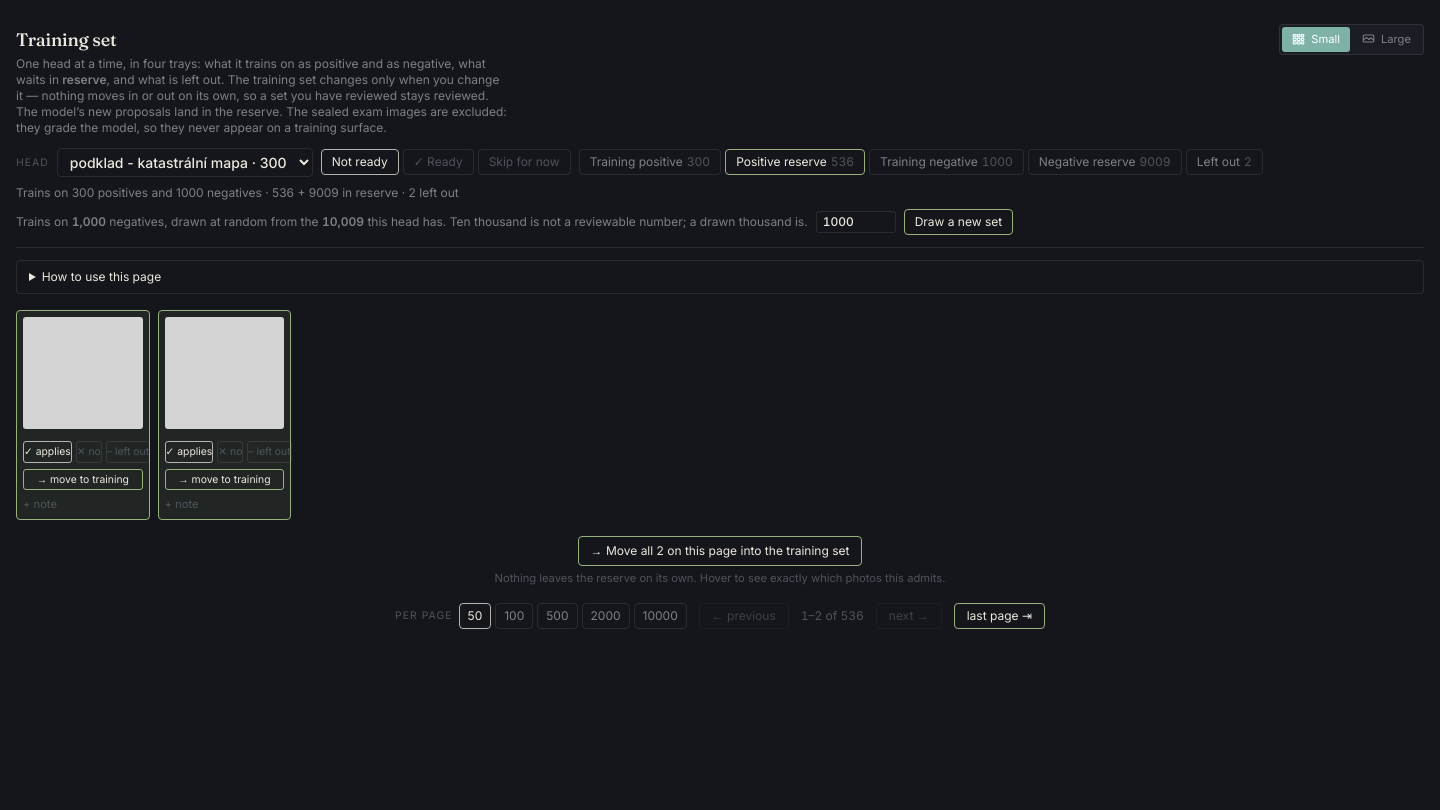
Test: <NewDedupTrainingSet> moving between reserve and the training set › admits one reserve photo, and the two counts move at once
Click the button with test id "move-301": (83, 479) left=23, top=468, right=143, bottom=490
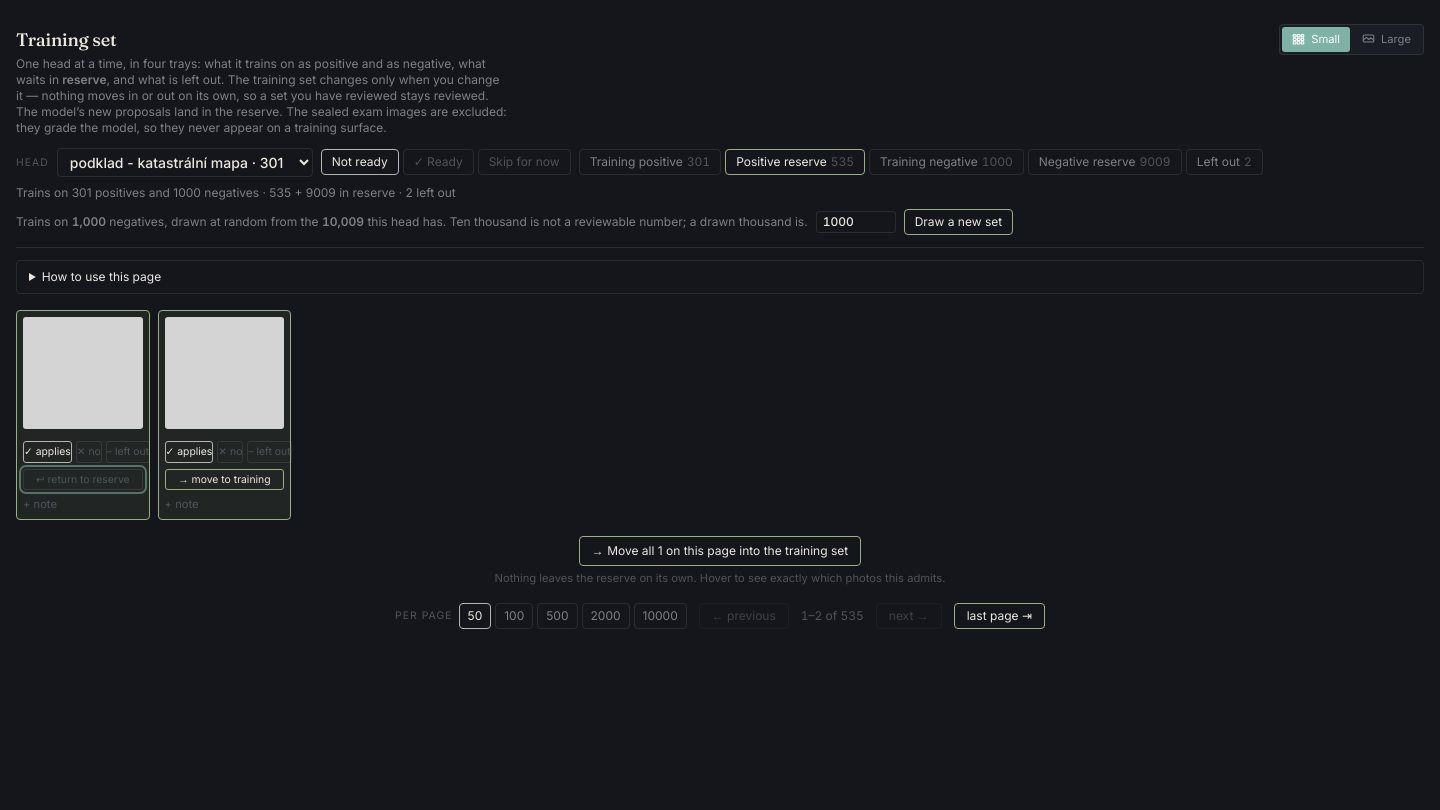
Check: the text with test id "tray-count-positive_reserve" reads "535", box left=831, top=154, right=854, bottom=169
Check: the text with test id "tray-count-positive" reads "301", box left=687, top=154, right=710, bottom=169
